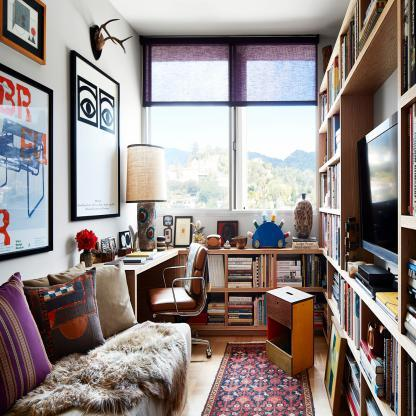chair: (146, 239, 219, 359), (261, 284, 320, 376)
light: (123, 135, 171, 257)
sofa: (0, 257, 199, 416)
table: (103, 239, 319, 328)
